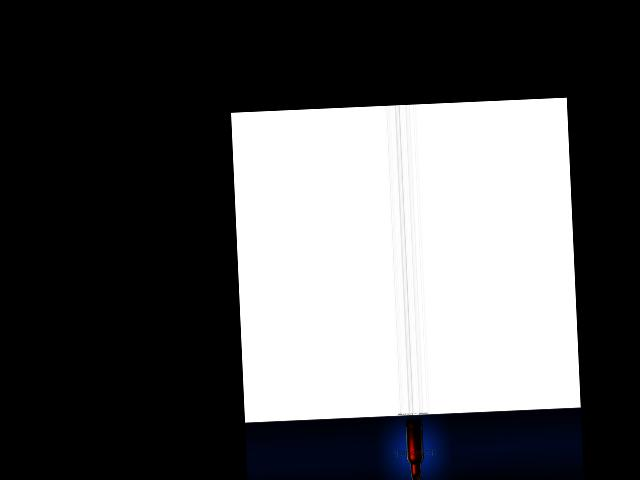beer: (405, 422, 425, 480)
